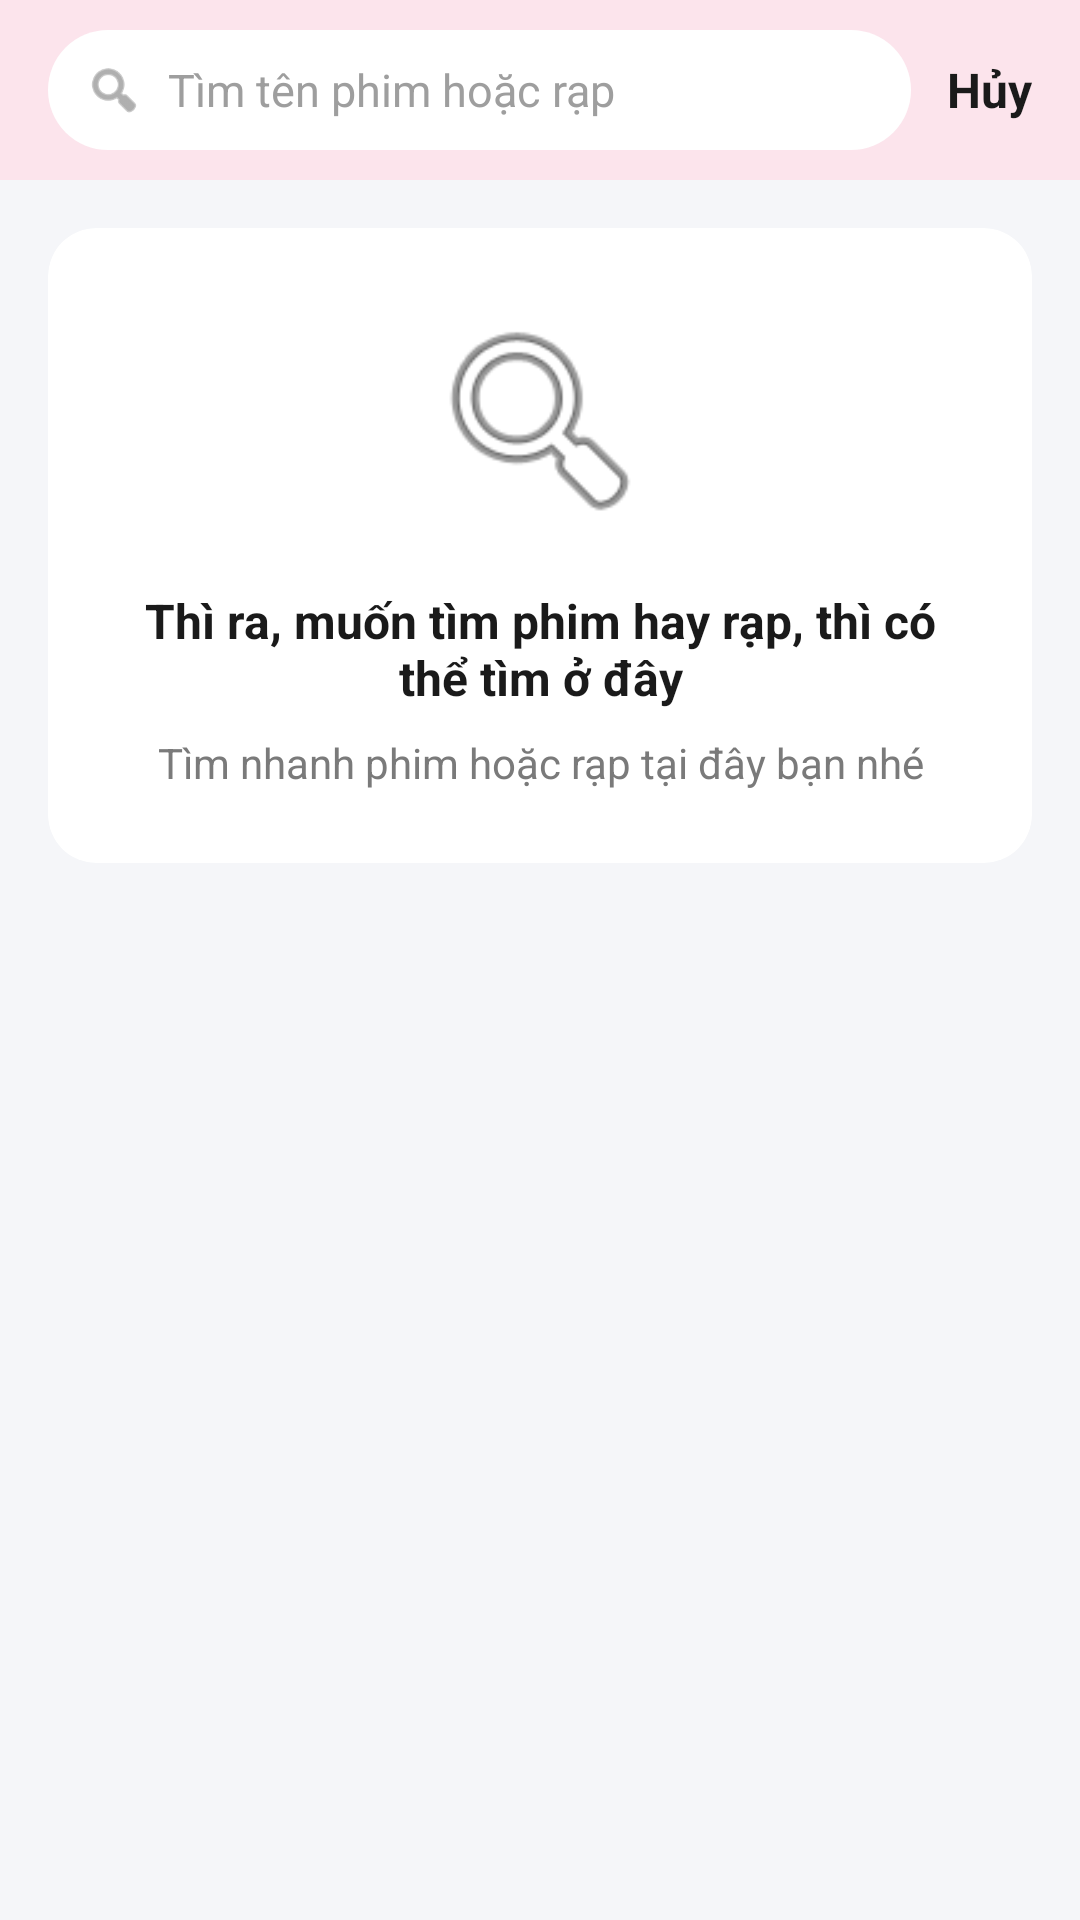

Named icons in this screenshot (1080 x 1920) and their bounding boxes, (x1, y1, x2, y2):
search: (92, 68, 136, 112), (451, 332, 629, 510)
